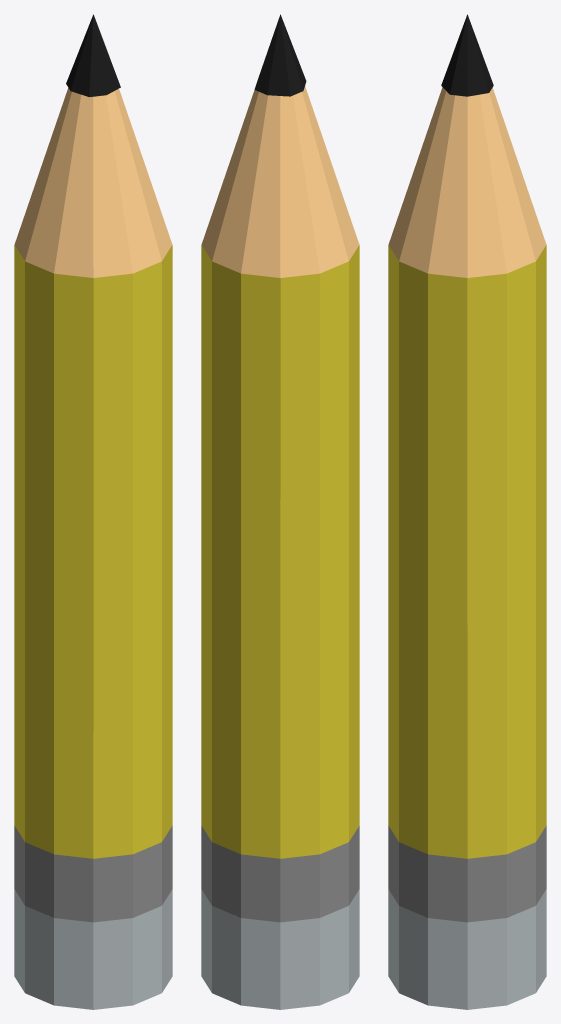
3 renders of one model, left to right at view 1: azimuth 30°, elevation 25°; view 2: azimuth 150°, elevation 25°; view 3: azimuth 270°, elevation 25°, orthographic.
Parts seen in each view (by area): view 1: group1188961352, group1731322210, group1144415267, group80125618, group529481830; view 2: group1188961352, group1731322210, group1144415267, group80125618, group529481830; view 3: group1188961352, group1731322210, group1144415267, group80125618, group529481830.
Boxes of the visible parts, left/top/right/bottom form: group1188961352: left=14, top=245, right=172, bottom=858; group1731322210: left=14, top=88, right=172, bottom=277; group1144415267: left=14, top=889, right=172, bottom=1009; group80125618: left=14, top=825, right=172, bottom=922; group529481830: left=66, top=14, right=120, bottom=97; group1188961352: left=201, top=245, right=359, bottom=858; group1731322210: left=201, top=86, right=359, bottom=277; group1144415267: left=201, top=889, right=359, bottom=1009; group80125618: left=201, top=825, right=359, bottom=922; group529481830: left=254, top=14, right=306, bottom=96; group1188961352: left=388, top=245, right=546, bottom=858; group1731322210: left=388, top=87, right=546, bottom=277; group1144415267: left=388, top=889, right=546, bottom=1009; group80125618: left=388, top=825, right=546, bottom=922; group529481830: left=441, top=14, right=493, bottom=96.
Size of the model in its own units: 0.18 by 1.21 by 0.18.
